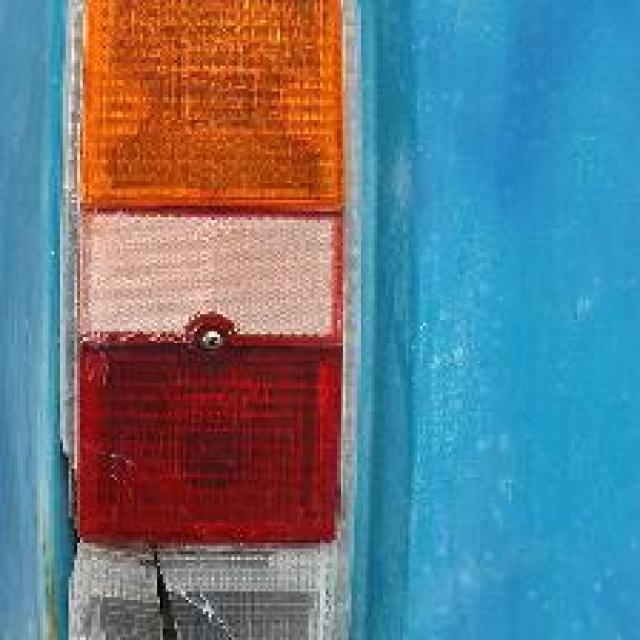damaged: (123, 542, 234, 638)
